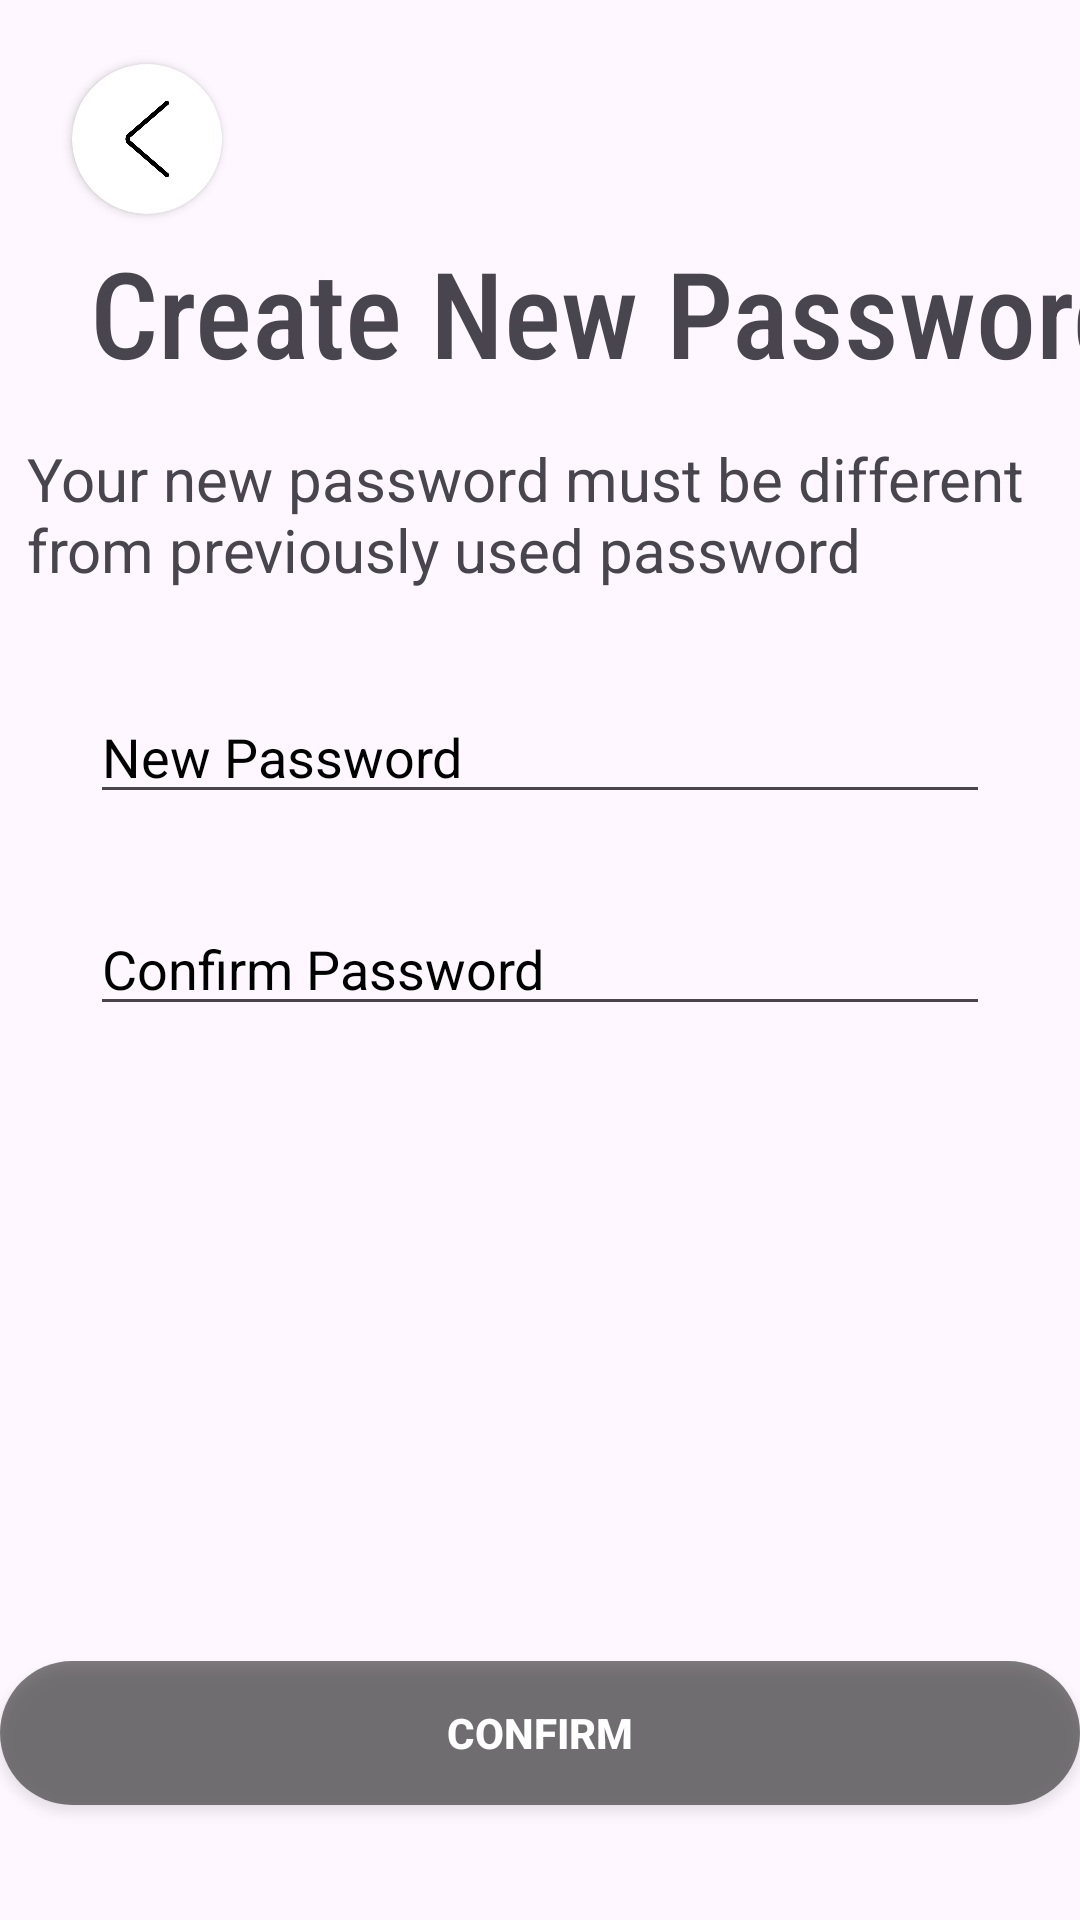

Icons on this 1080px x 1920px Android screen, each with the point to tap as (x=x, y=y):
left: (x=147, y=139)
